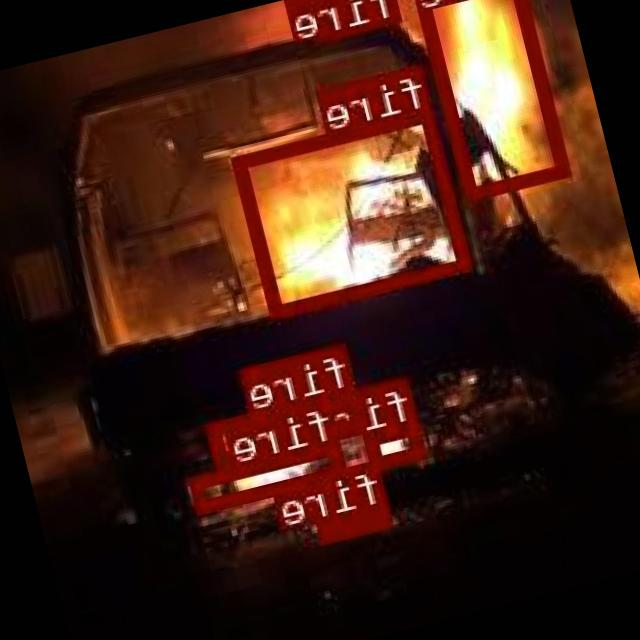fire: (233, 104, 472, 316), (411, 0, 572, 196), (208, 386, 366, 462), (190, 437, 350, 511), (307, 0, 402, 37), (364, 417, 429, 466), (318, 501, 395, 541)
